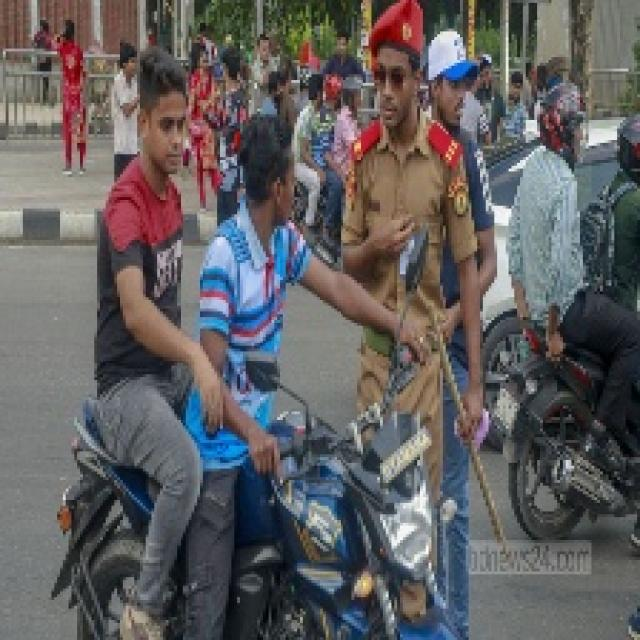bike: (66, 349, 465, 629), (498, 309, 634, 528)
